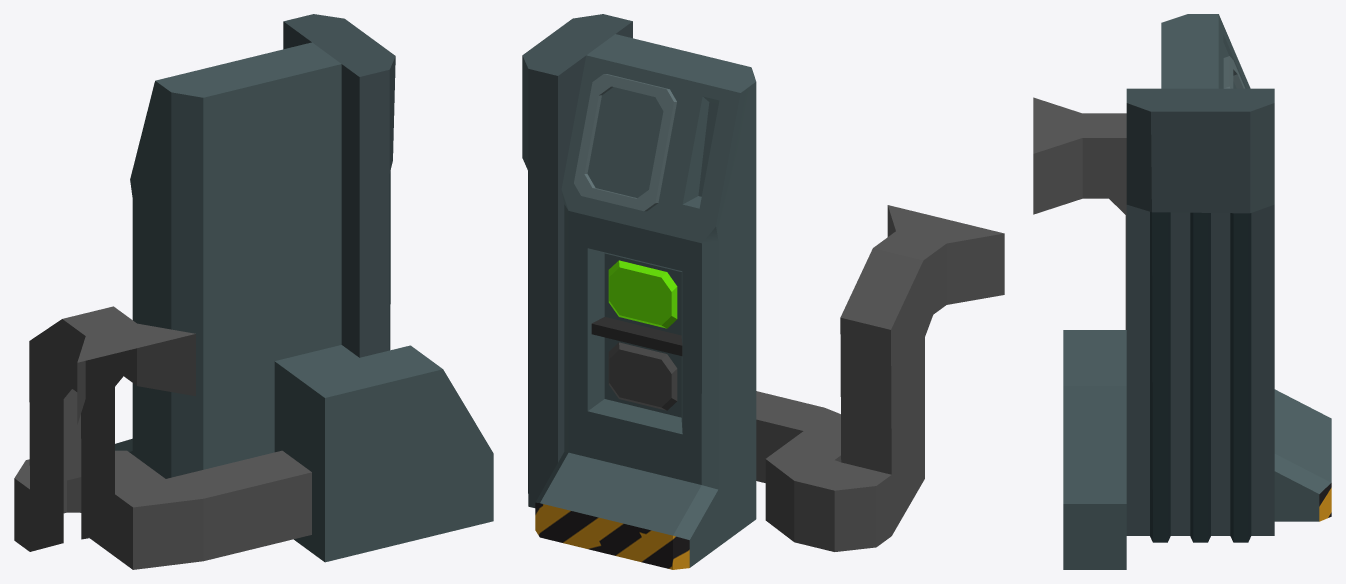
File: SM_switch_clone_valid2.fbx
3 views of the same model, side by side, from view 1: azimuth 30°, elevation 25°; view 2: azimuth 150°, elevation 25°; view 3: azimuth 270°, elevation 25° (orthographic). The views are drawn at different scales.
Parts seen in each view (by area): view 1: SM_switch_clone_valid2; view 2: SM_switch_clone_valid2; view 3: SM_switch_clone_valid2.
Boxes of the visible parts, x1,y1,x2,y2 form: SM_switch_clone_valid2: [14, 14, 493, 569]; SM_switch_clone_valid2: [522, 14, 1004, 569]; SM_switch_clone_valid2: [1033, 14, 1331, 569].
Bounding box in the file's own units: 150 × 148 × 92.47.
1 material, 1 textured.
